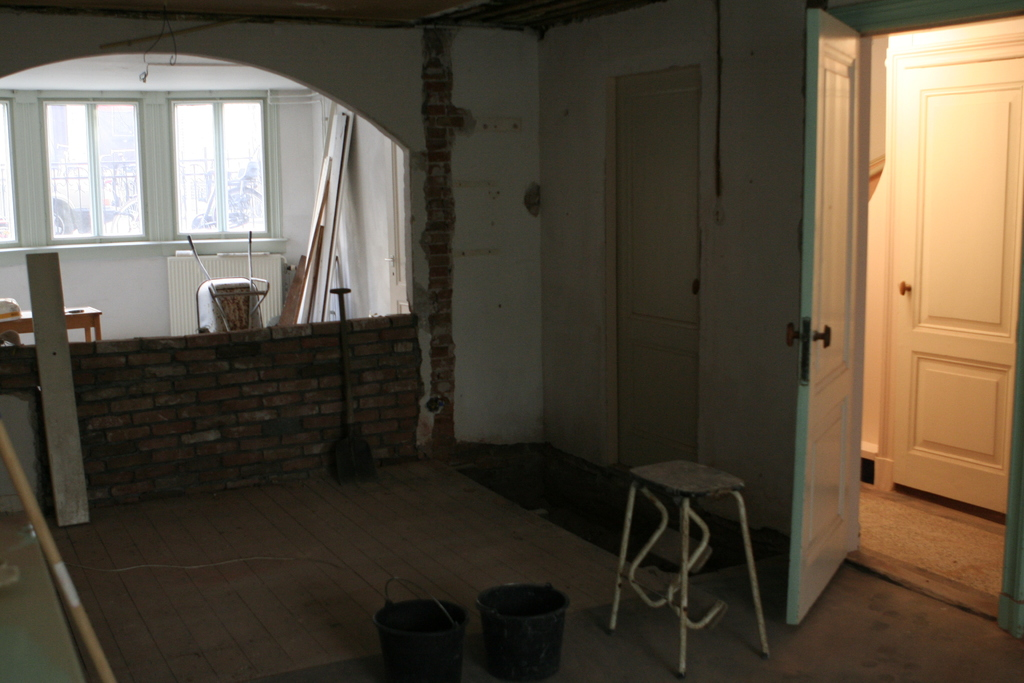Door: (861, 45, 1024, 530), (785, 6, 863, 622), (609, 63, 703, 468)
